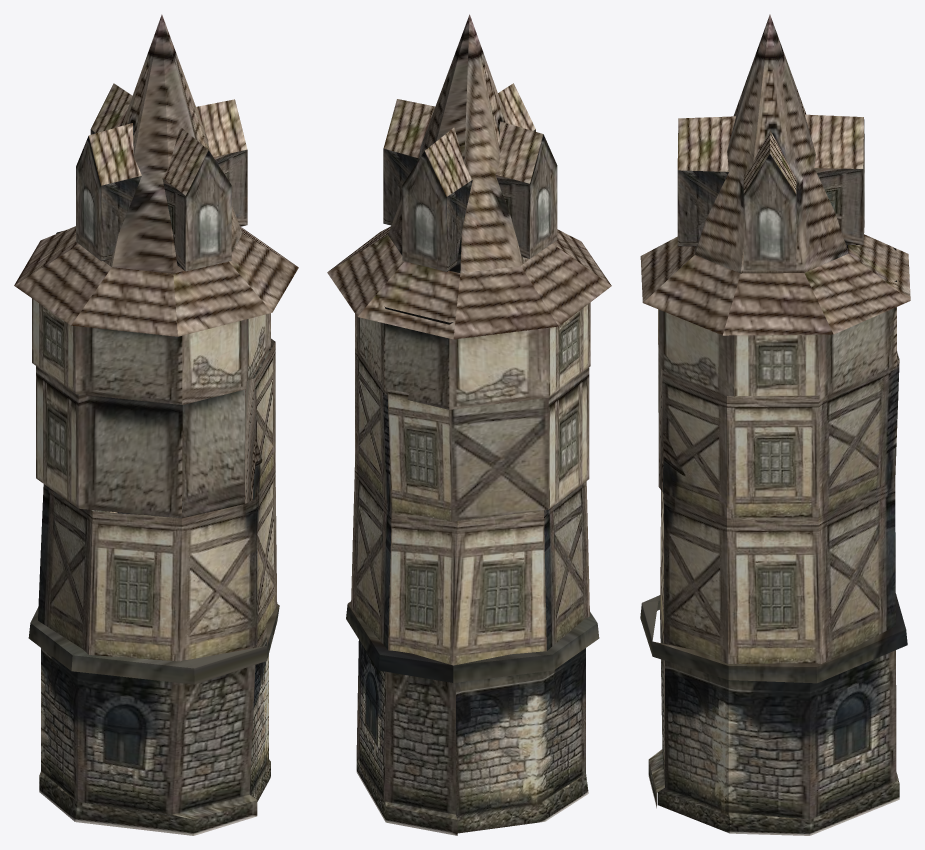
3 views of the same model, side by side, from view 1: azimuth 30°, elevation 25°; view 2: azimuth 150°, elevation 25°; view 3: azimuth 270°, elevation 25° (orthographic).
Parts seen in each view (by area): view 1: t4; view 2: t4; view 3: t4.
Boxes of the visible parts, x1,y1,x2,y2 form: t4: (14, 14, 298, 835); t4: (327, 14, 611, 835); t4: (640, 14, 910, 835).
Size of the model in its own units: 1.52 by 4.82 by 1.52.
1 material, 1 textured.
